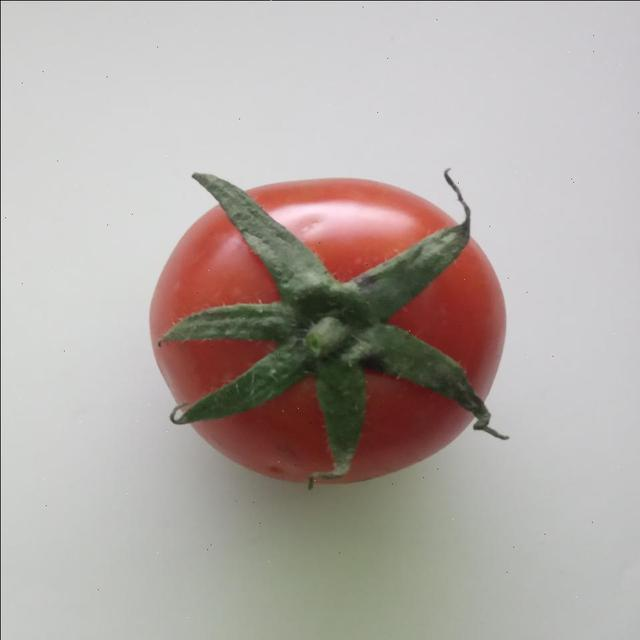Healthy Fruit: (92, 101, 339, 328)
